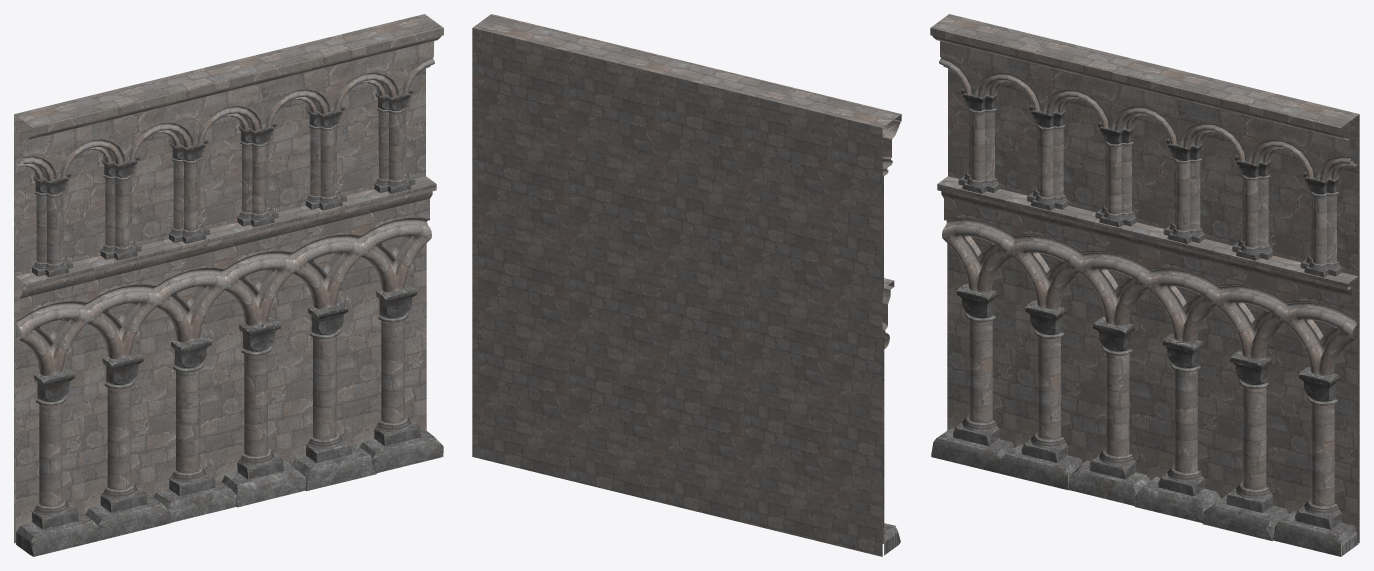
The picture shows the model from 3 angles, left to right: view 1: azimuth 30°, elevation 25°; view 2: azimuth 150°, elevation 25°; view 3: azimuth 330°, elevation 25°; orthographic projection.
Parts seen in each view (by area): view 1: SM_DungeonRoomTeleportWall_LOD0; view 2: SM_DungeonRoomTeleportWall_LOD0; view 3: SM_DungeonRoomTeleportWall_LOD0.
Part boxes in pixels (x1,y1,x2,y2): SM_DungeonRoomTeleportWall_LOD0: (14, 14, 443, 556); SM_DungeonRoomTeleportWall_LOD0: (472, 14, 901, 556); SM_DungeonRoomTeleportWall_LOD0: (930, 14, 1359, 556).
Bounding box in the file's own units: 6.01 × 6 × 0.508.
Materials: 2 (2 with a texture image).
